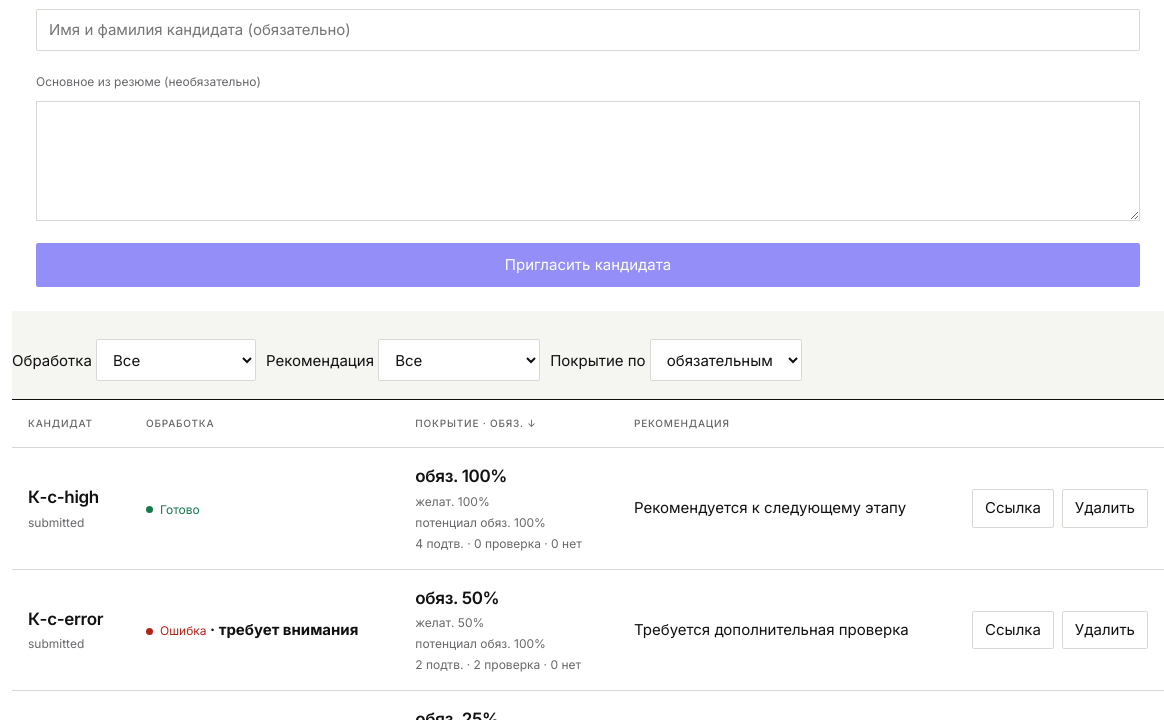
Test case: CandidateListPage › фильтрует по статусу обработки на клиенте
This screenshot has width=1164, height=720.
(page scrolled)
Select "Ошибка" in the dropdown named "Фильтр по статусу обработки" at (176, 360), box [96,339,256,381]
(page scrolled)
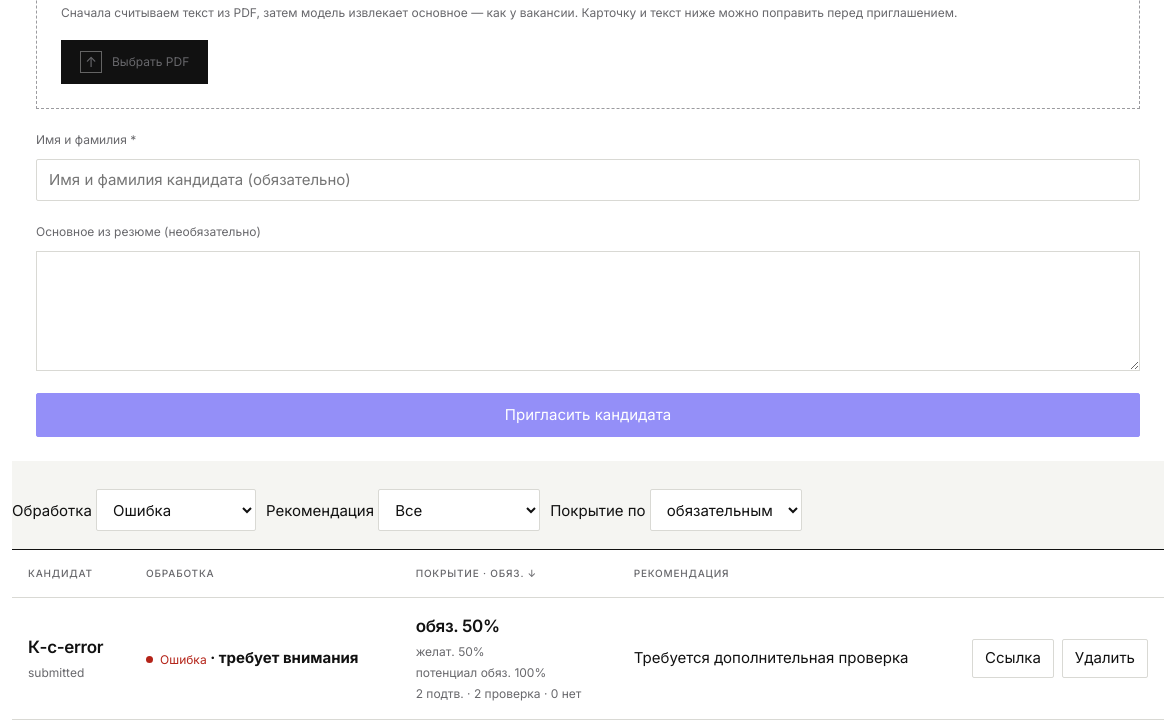
Expected: the number of rows with test id "candidate-row" is 1, [12,598,1163,719]
